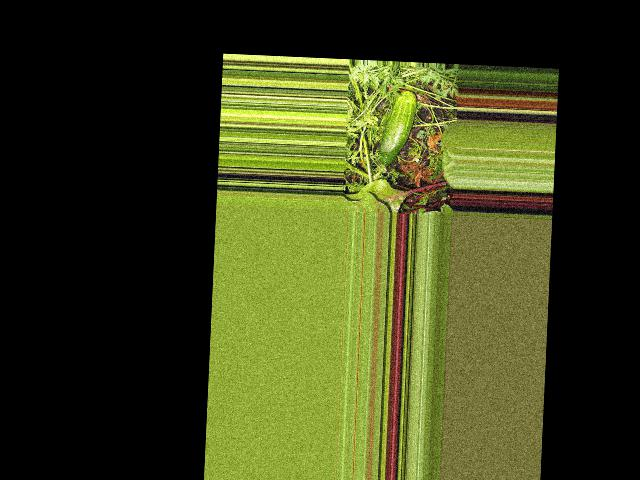cucumber: (376, 90, 417, 168)
